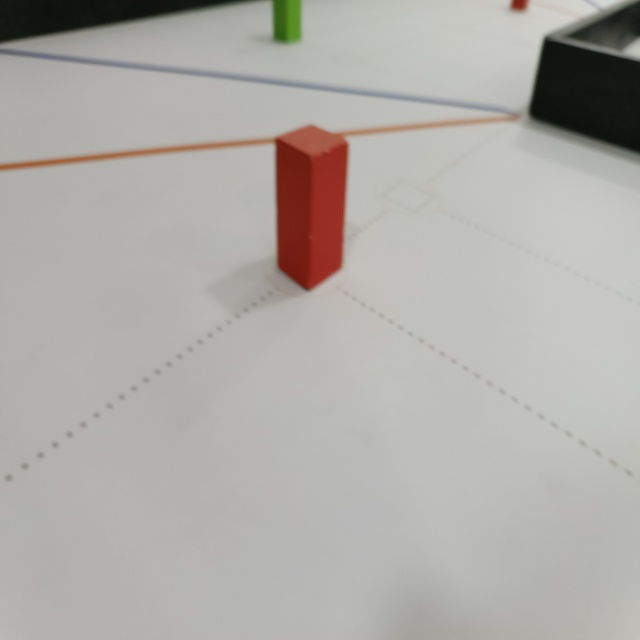blue line: (0, 40, 531, 116)
green rectangular prism: (270, 0, 305, 42)
orange line: (0, 117, 531, 175)
red rectangular prism: (270, 121, 351, 295)
